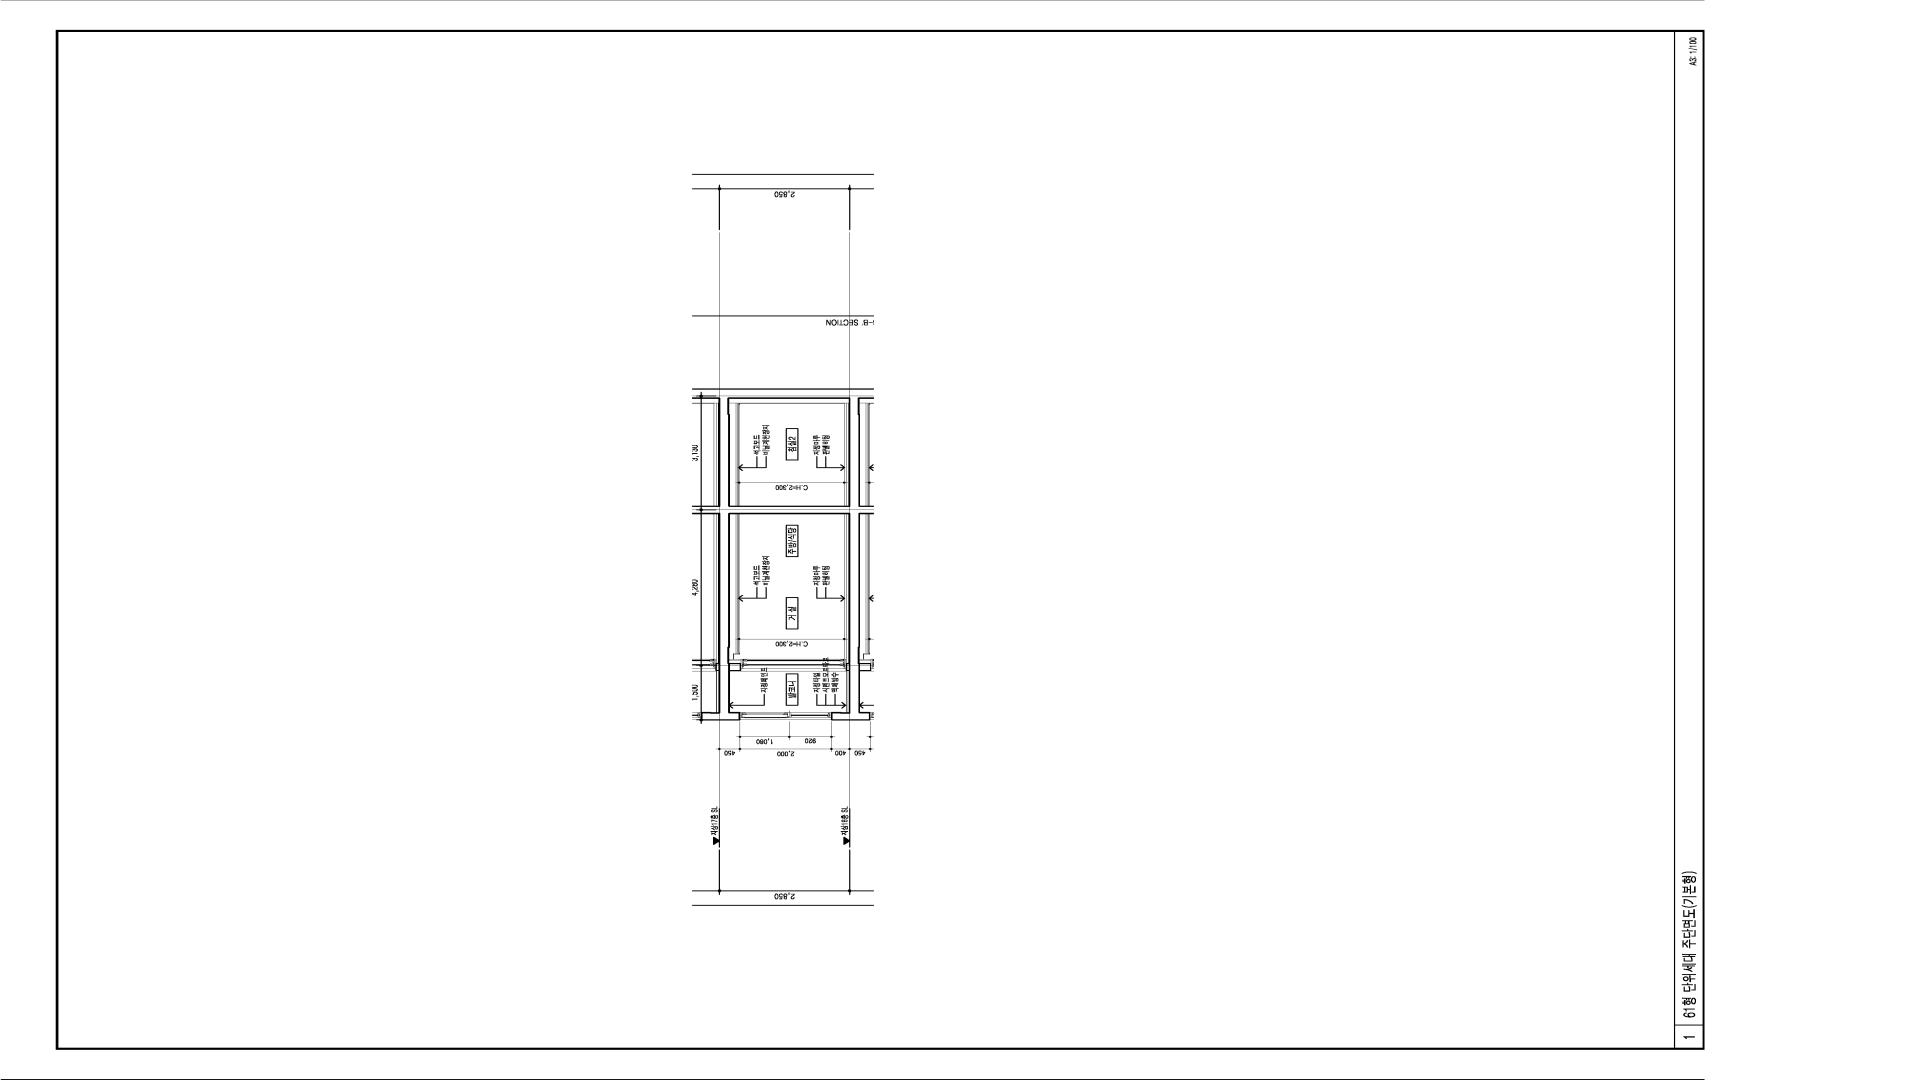wall: (719, 388, 860, 721), (731, 663, 741, 671), (845, 663, 849, 671)
window: (741, 659, 847, 669), (740, 712, 831, 720)
